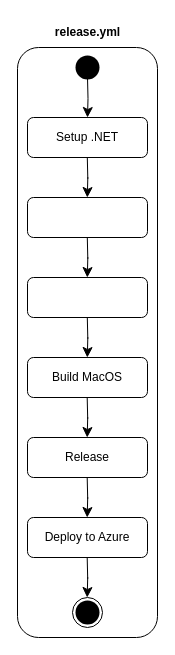
This 175x655 diagram has some shape labels left out. Each missing label, with the centre of its shape:
Build Linux: the point at 87,217
Build Windows: the point at 87,297
